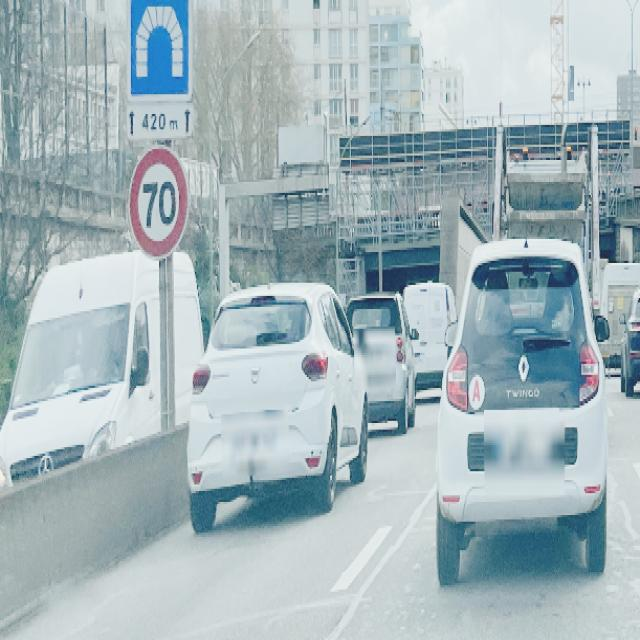speed_70: (126, 146, 192, 257)
